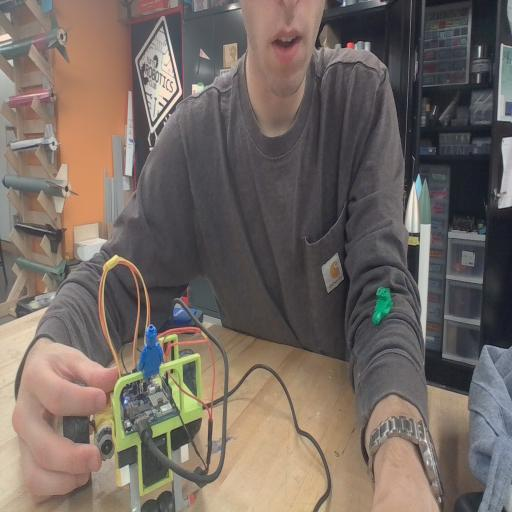blue LEGO minifig: (138, 320, 165, 382)
green LEGO minifig: (370, 282, 395, 330)
